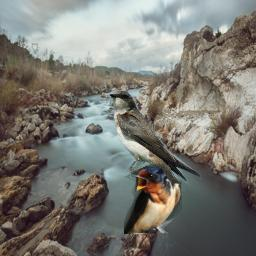Swallow: (109, 90, 201, 191), (124, 164, 182, 234)
